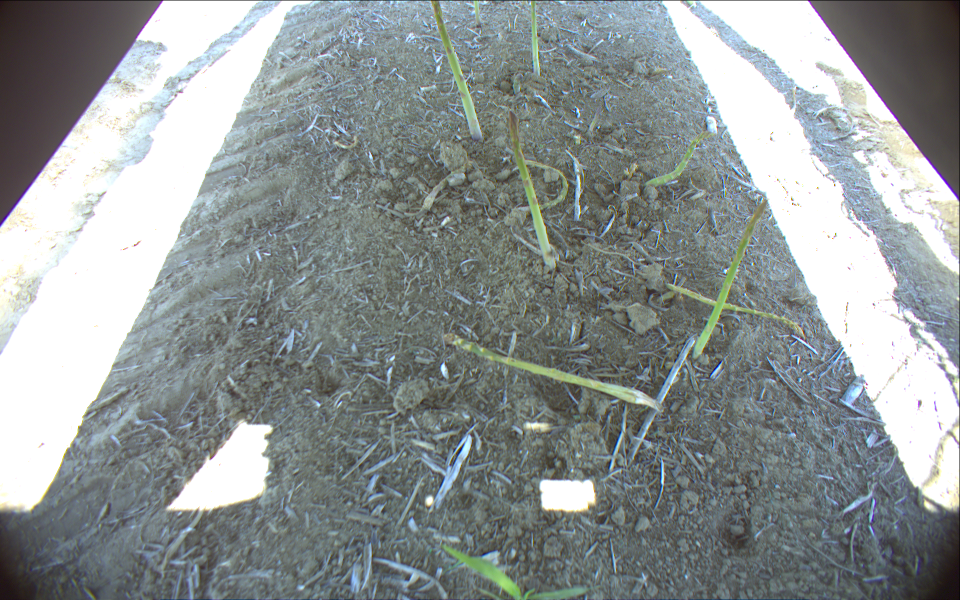aspa: (686, 198, 774, 363), (505, 109, 561, 277), (427, 1, 487, 143), (645, 128, 713, 193), (526, 1, 544, 83), (473, 1, 485, 31)
